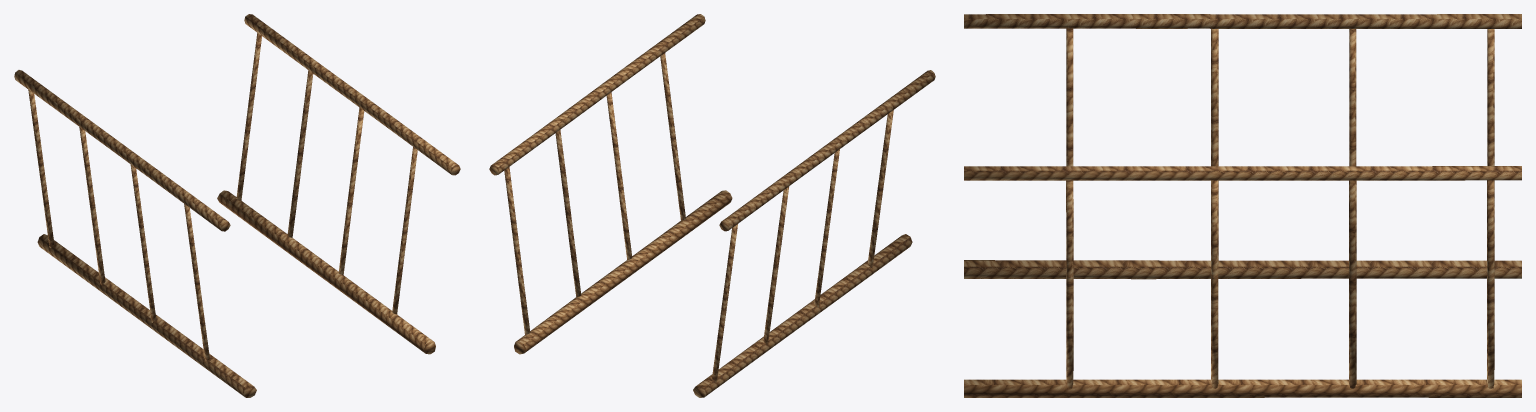
The model's file is bridge_ropes.glb.
3 views of the same model, side by side, from view 1: azimuth 30°, elevation 25°; view 2: azimuth 150°, elevation 25°; view 3: azimuth 270°, elevation 25° (orthographic). The views are drawn at different scales.
Parts seen in each view (by area): view 1: model; view 2: model; view 3: model.
Boxes of the visible parts, bbox=[...] form: model: bbox=[14, 14, 460, 397]; model: bbox=[489, 14, 935, 397]; model: bbox=[964, 14, 1521, 397].
Bounding box in the file's own units: 1.34 × 0.9767 × 1.99.
3 materials, 3 textured.
